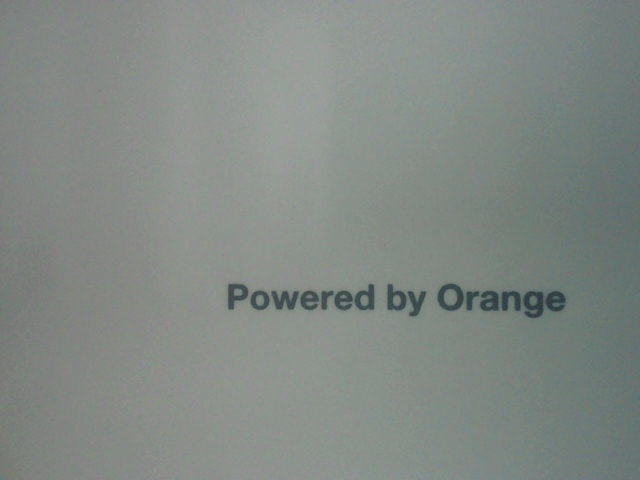AS_PowerByOrange: (208, 276, 575, 324)
